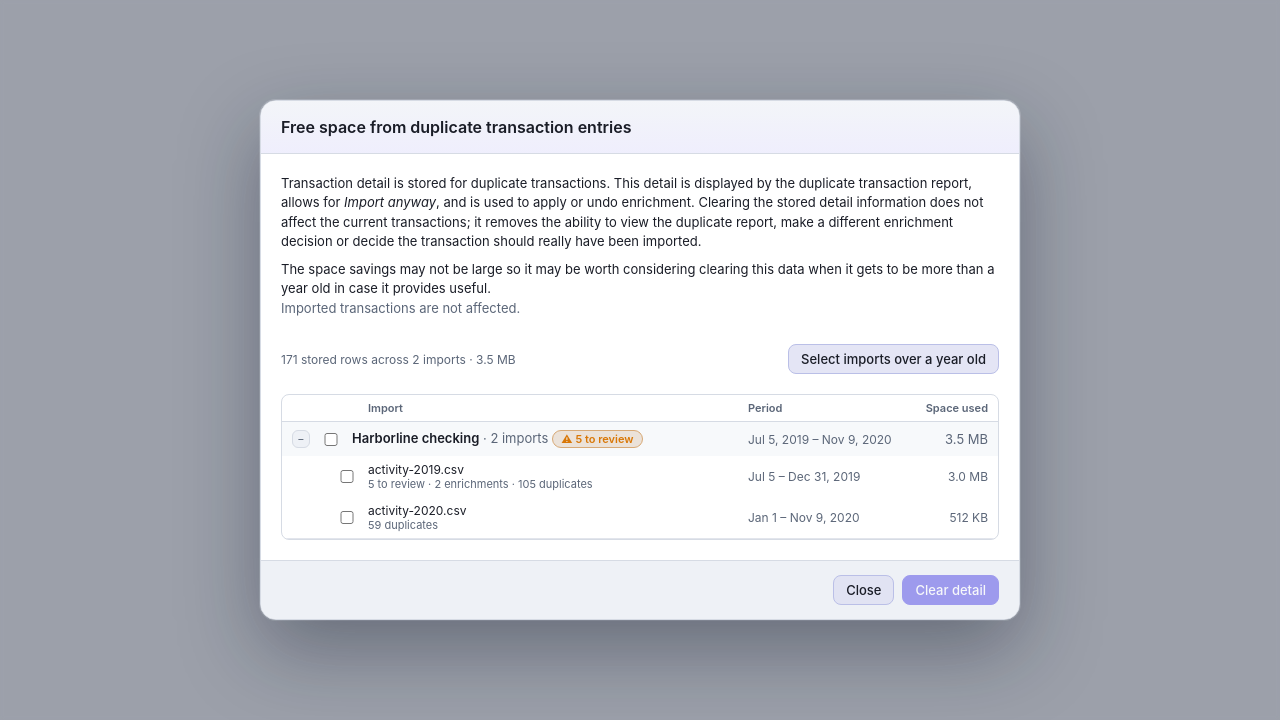
Test: the stored-detail screen › picks out the imports made over a year ago, and only those
Expected: the text "activity-2019.csv" is shown, [368,462,464,477]
Click the button "Select imports over a year old" at (894, 359), box [788,344,999,374]
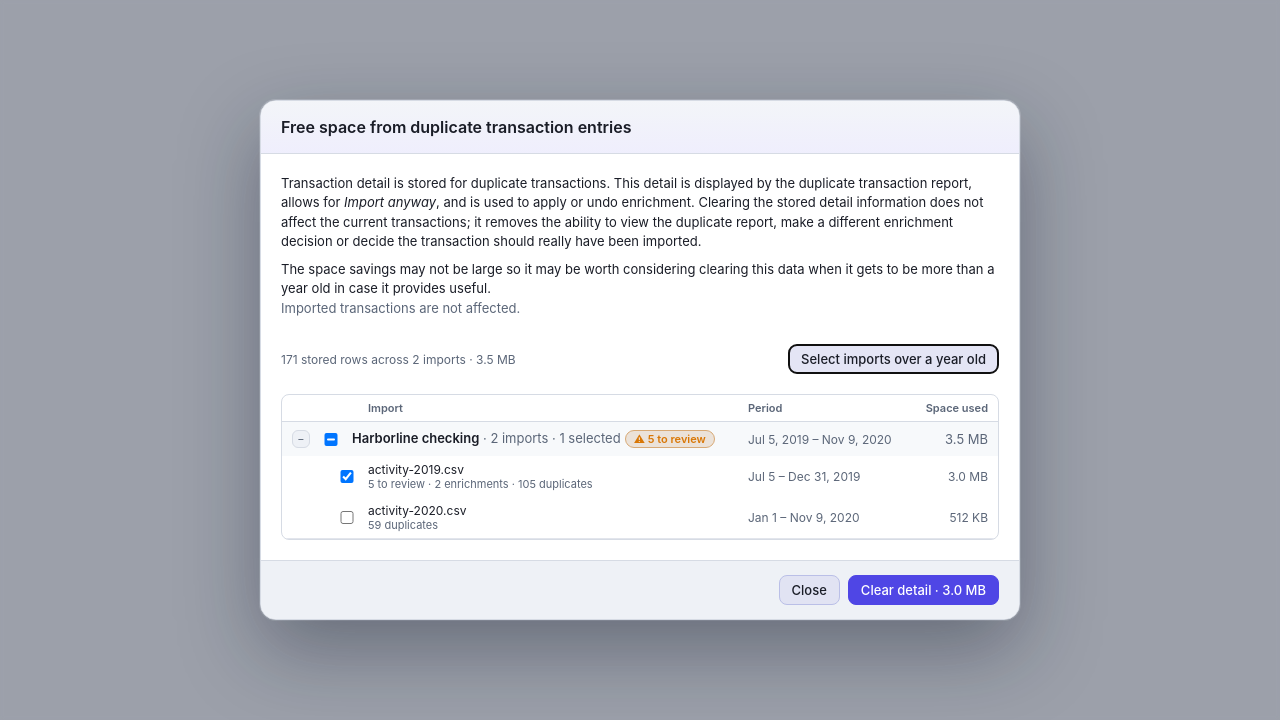
Expected: the button "Clear detail · 3.0 MB" is shown, [848,575,999,605]
